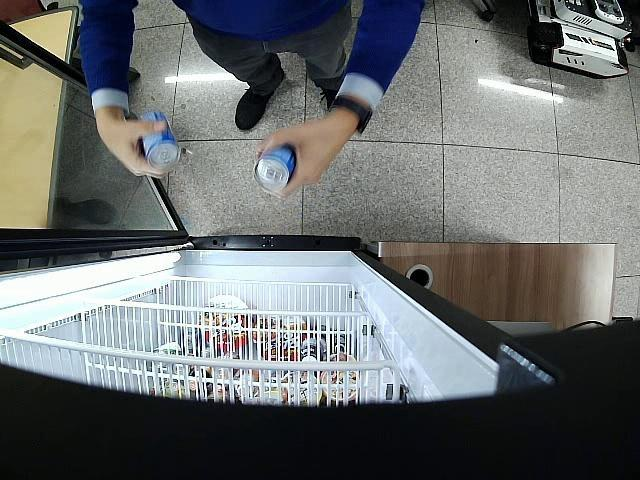15_letsbe: (142, 109, 180, 172), (254, 149, 296, 192)
